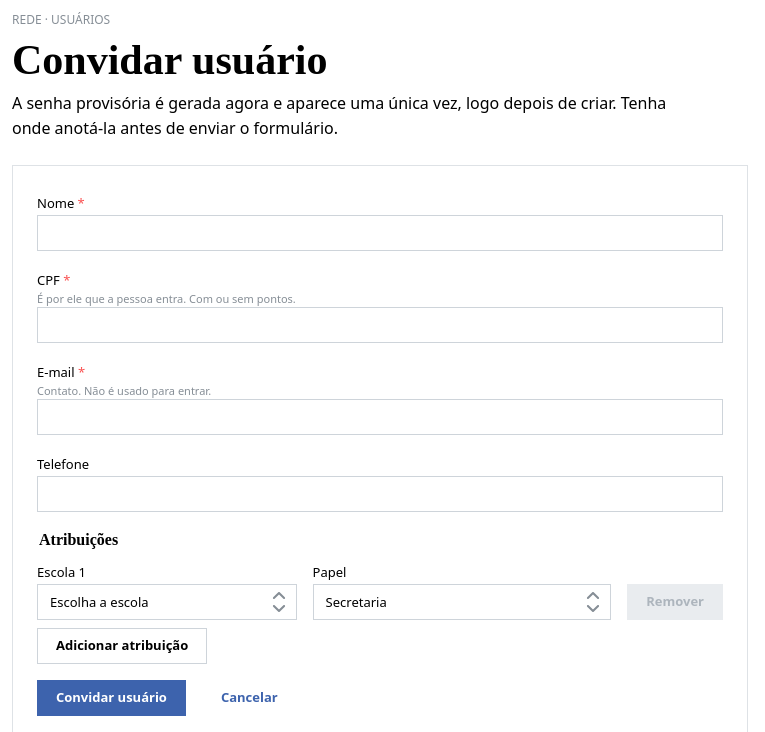
Test case: the temporary password › appears once, after a successful invitation
Type "Joana Ribeiro" into the field labelled "Nome" at (380, 233), box [37,215,723,251]
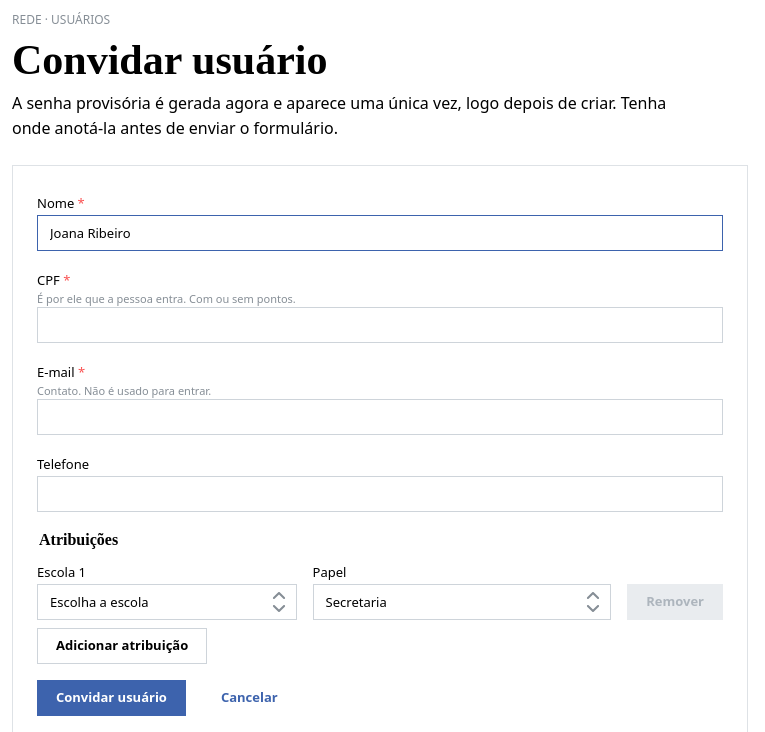
Type "52998224725" into the field labelled "CPF" at (380, 325), box [37,307,723,343]
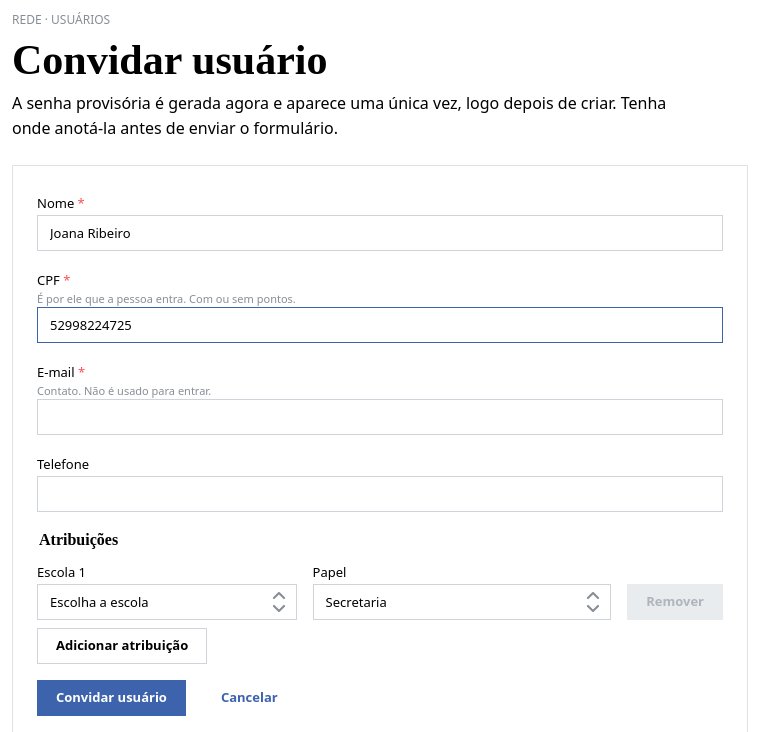
Type "joana@escolaviva.test" into the field labelled "E-mail" at (380, 417), box [37,399,723,435]
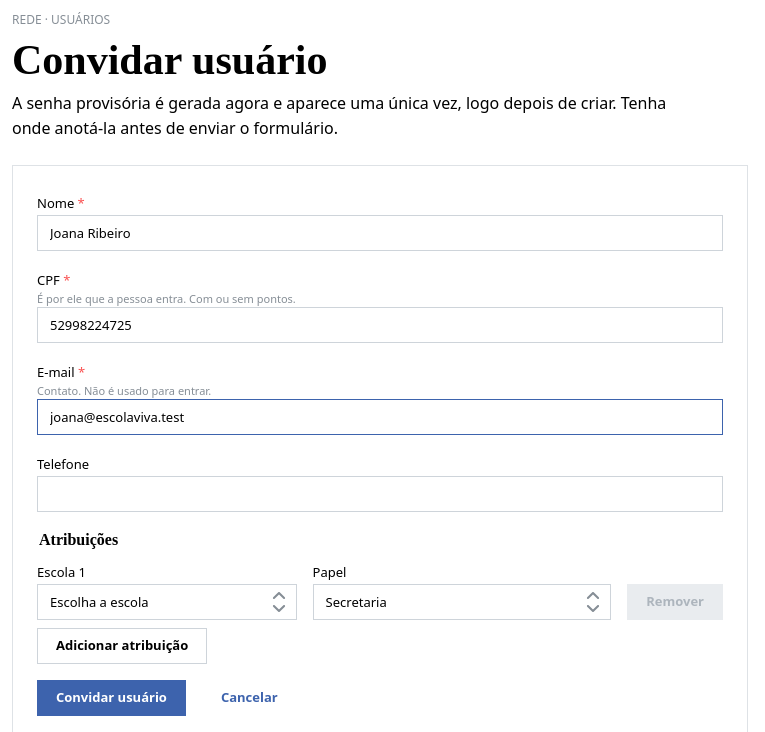
Select "Escola Central" in the dropdown labelled "Escola 1" at (167, 602), box [37,584,297,620]
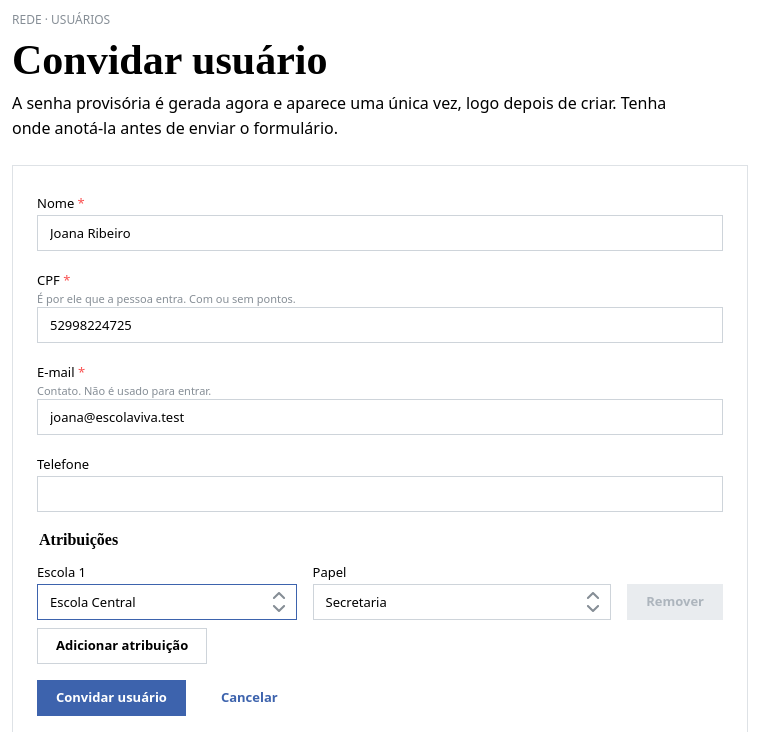
Click the button "Convidar usuário" at (111, 698), box [37,680,186,716]
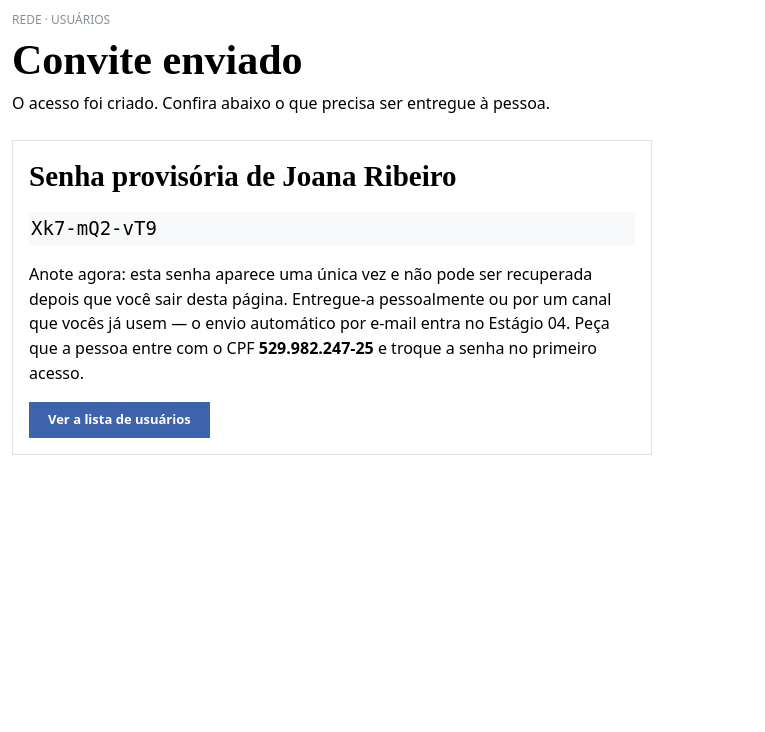
Check: the text "Xk7-mQ2-vT9" is shown, box [29,212,635,246]
